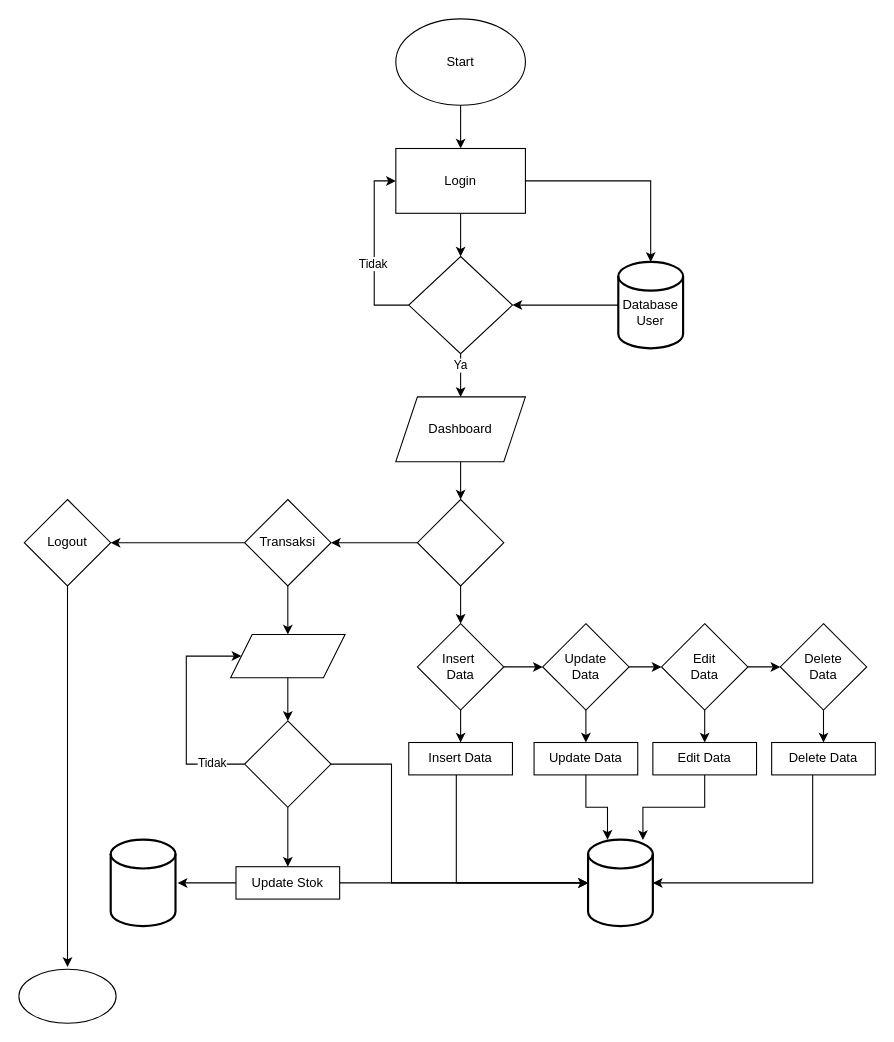
Image size: 894x1042. Some labels were removed from this diagram. Each missing label, with the centre of its shape:
cek username & password: (460,304)
Database Barang: (619,882)
Database Laporan: (142,882)
End: (67,995)
Input Barang, quantity: (287,655)
Kelola Barang: (460,542)
Stok Tersedia: (287,763)
